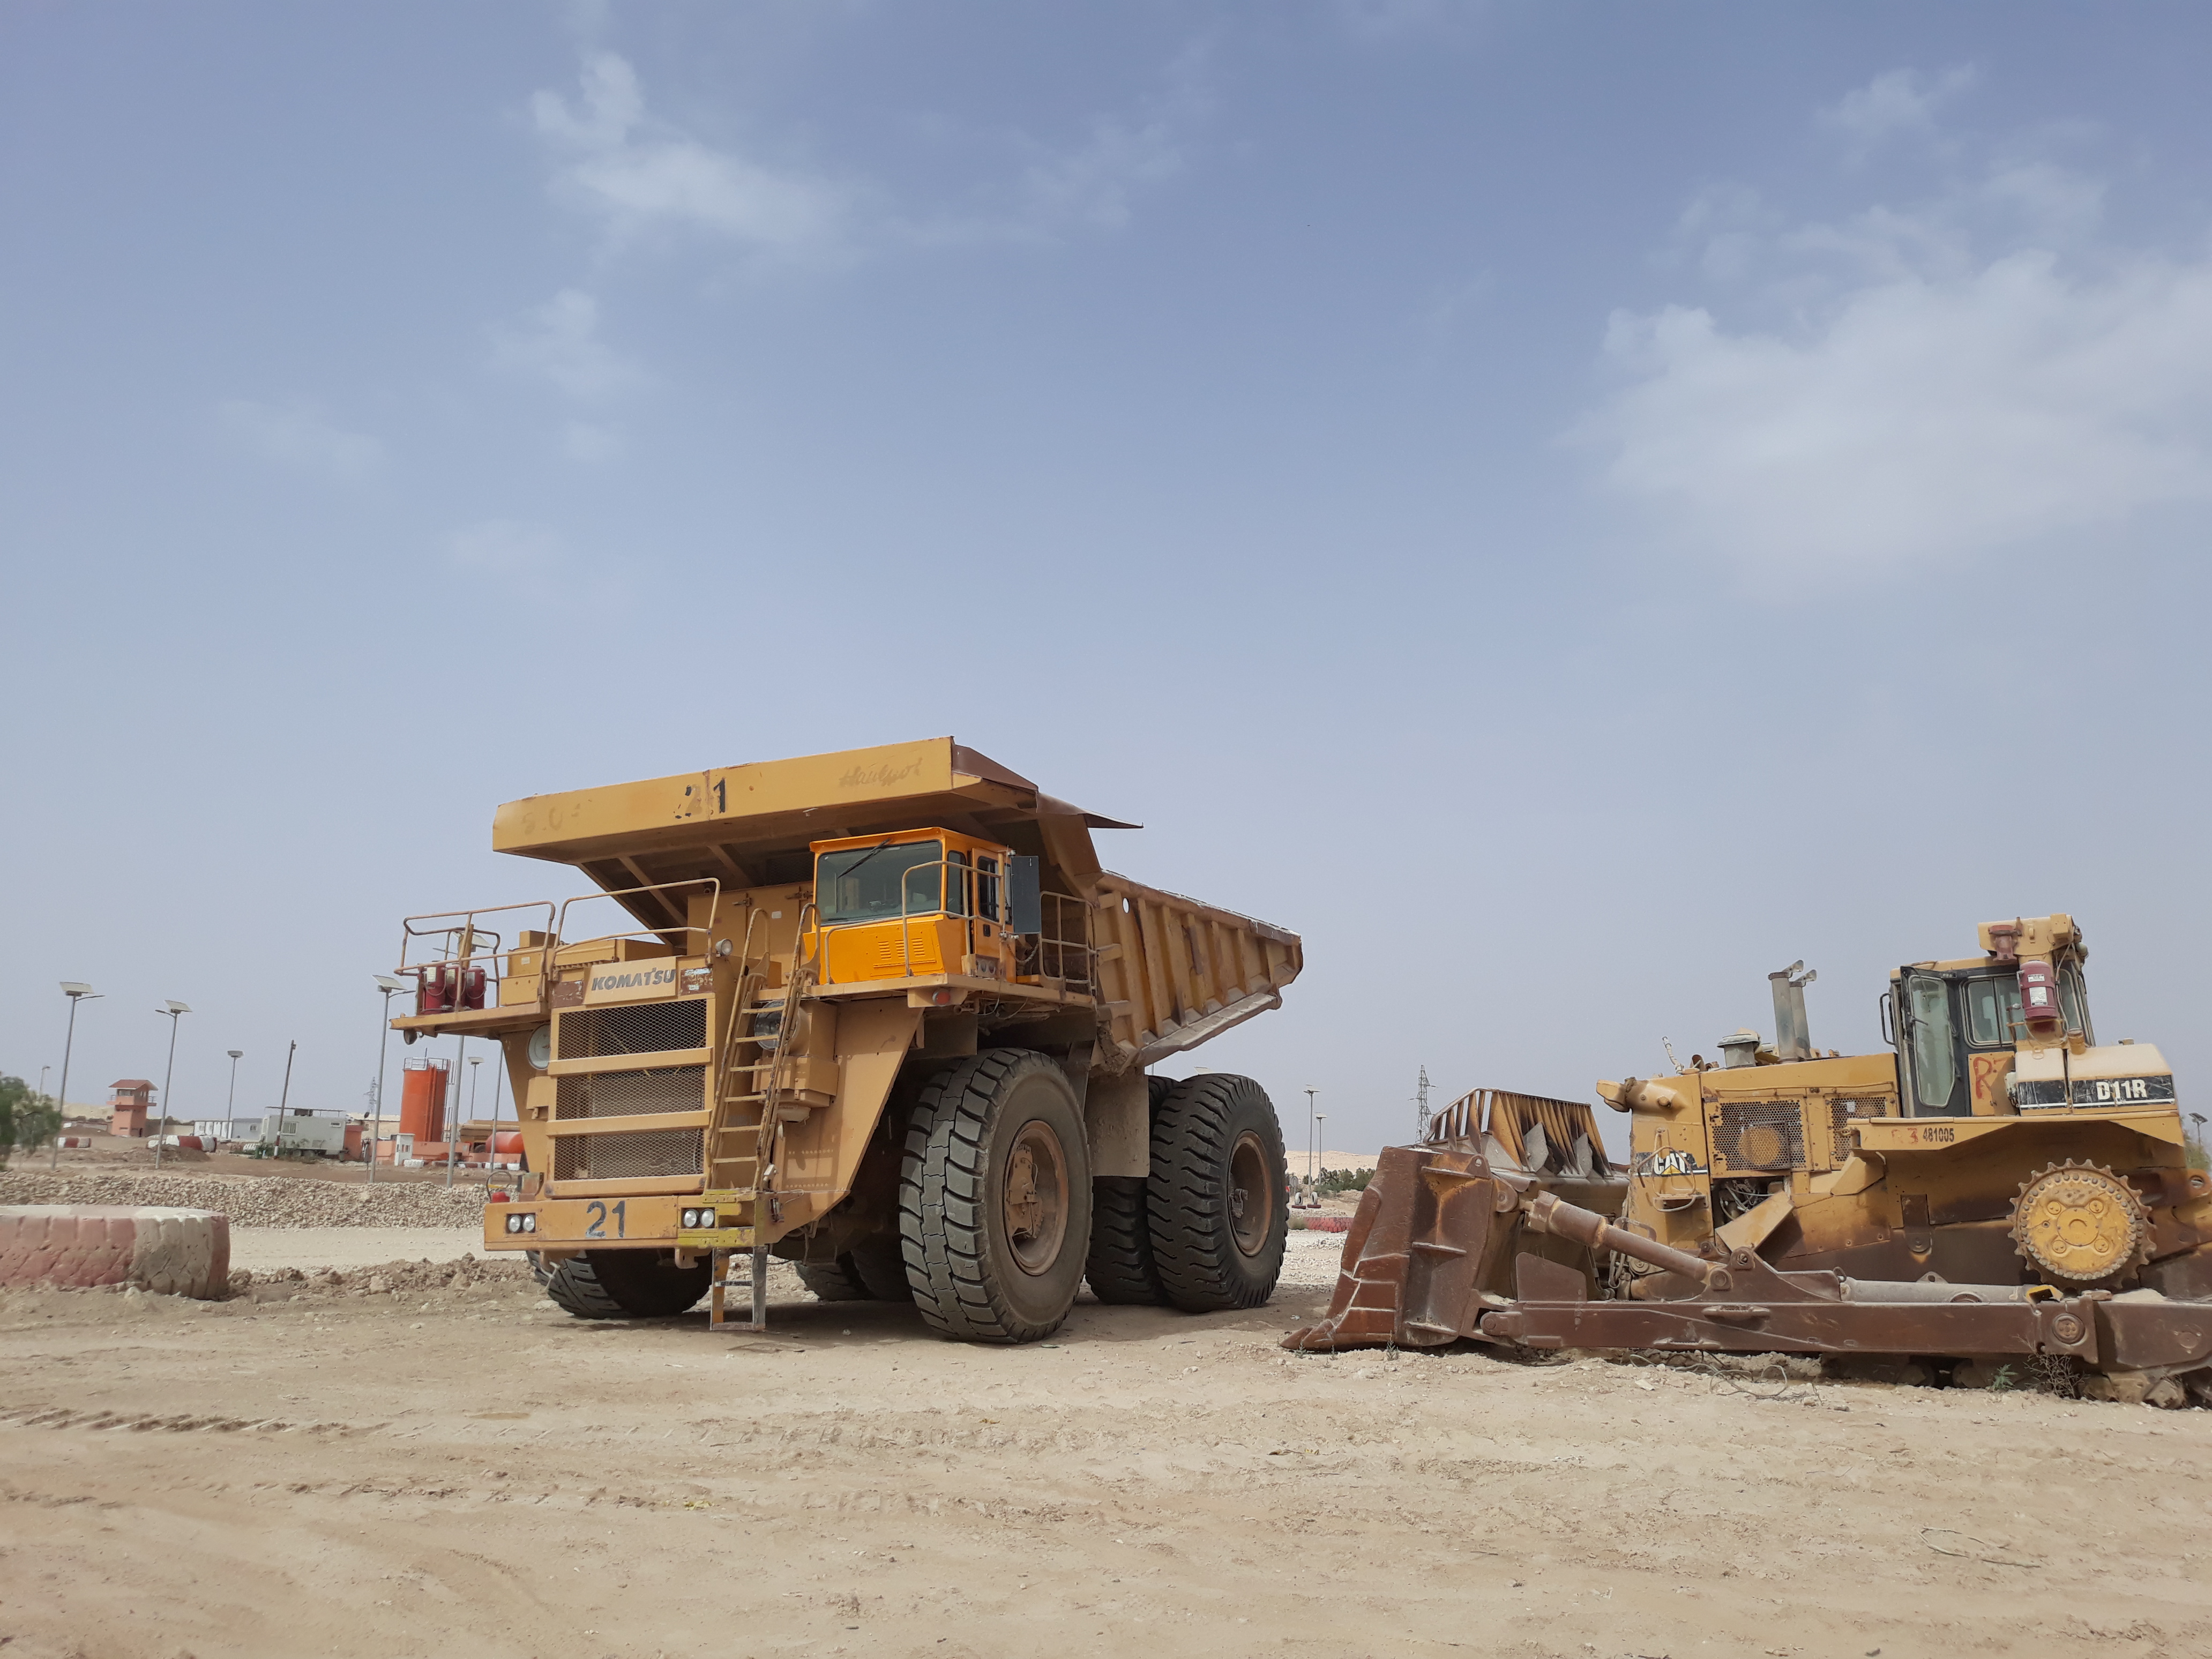bulldozer: (1313, 915, 2212, 1448)
camion: (469, 716, 1318, 1396)
